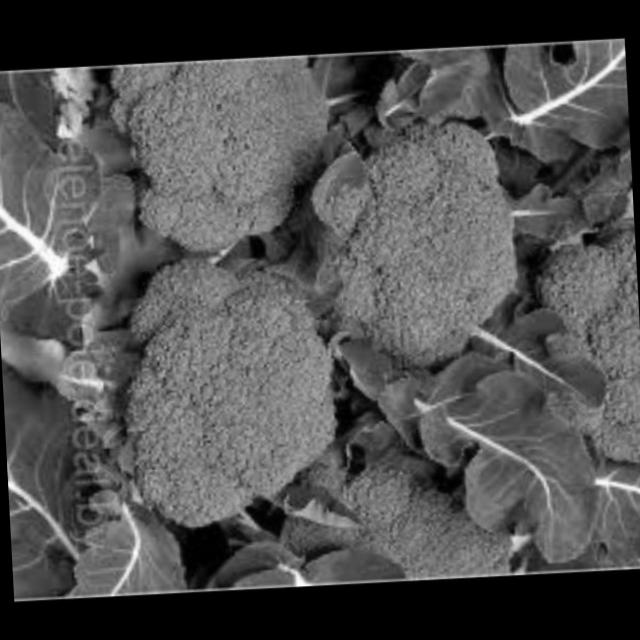broccoli: (116, 252, 362, 546), (308, 111, 539, 406), (113, 52, 368, 280), (304, 423, 548, 585), (512, 201, 640, 492)
